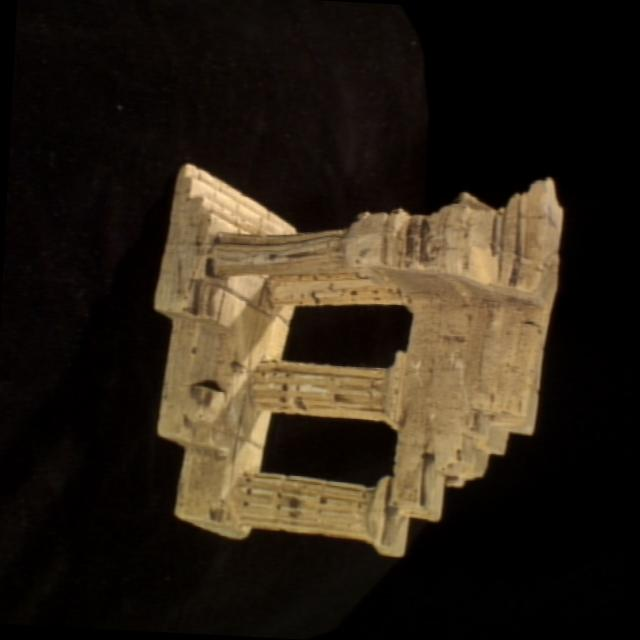Instance-Segmentation: (155, 166, 562, 554)
